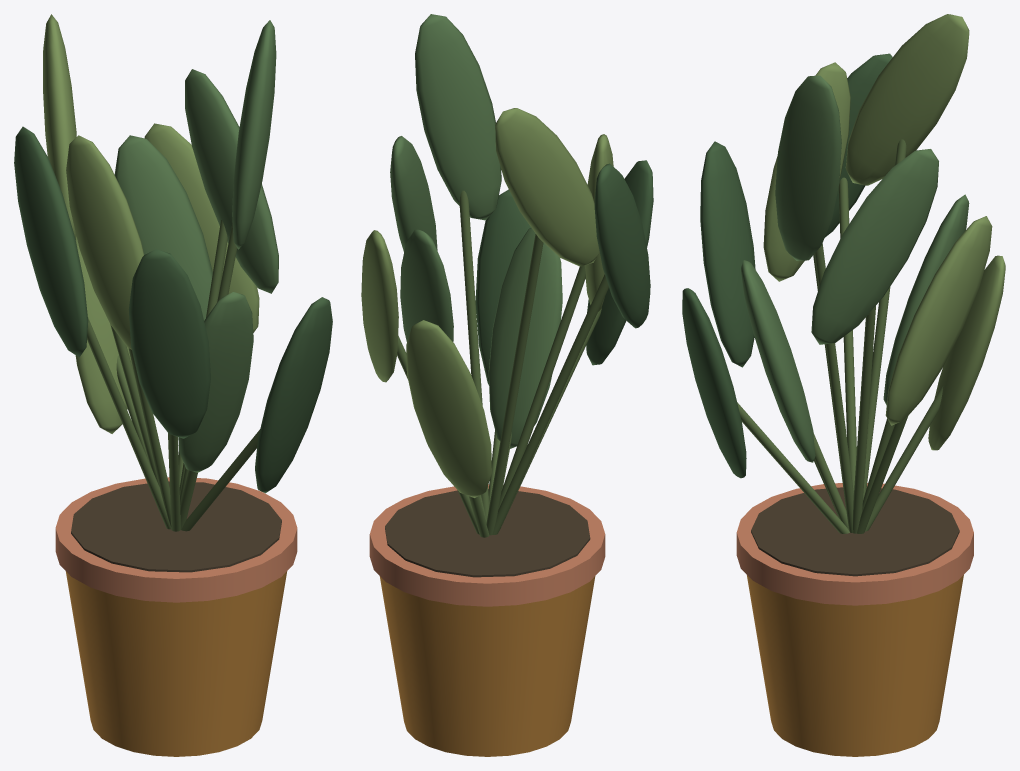
Rendered from plant.glb.
3 views of the same model, side by side, from view 1: azimuth 30°, elevation 25°; view 2: azimuth 150°, elevation 25°; view 3: azimuth 270°, elevation 25° (orthographic). The views are drawn at different scales.
Bounding box in the file's own units: 0.7757 × 2.06 × 0.8838.
